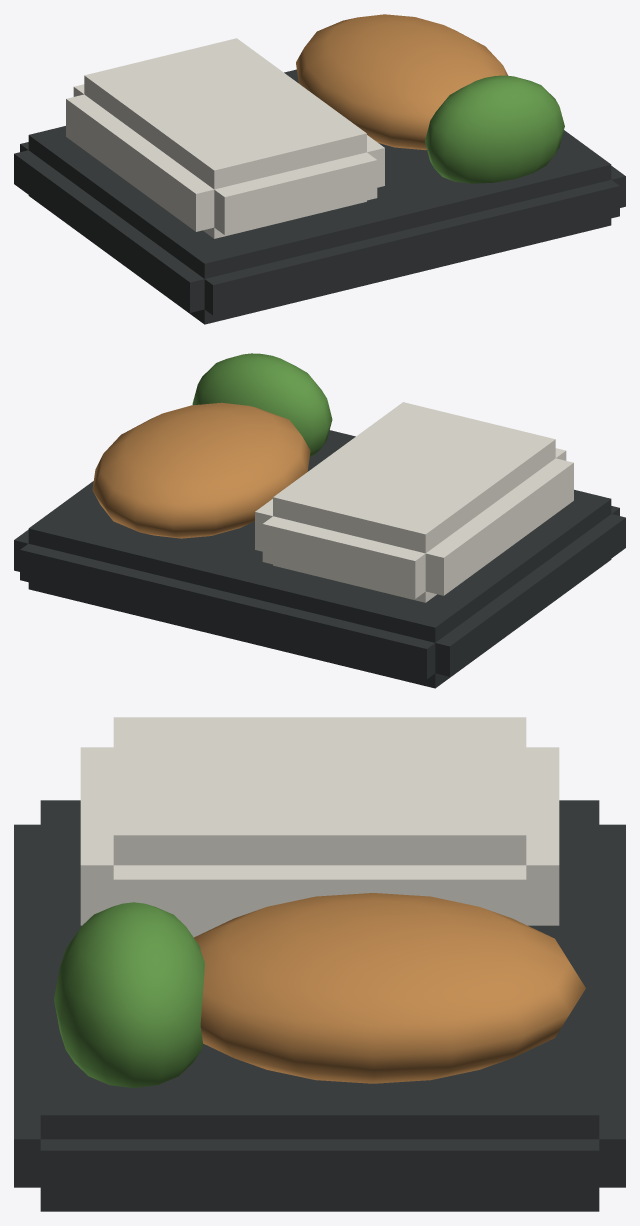
Rendered from sku_deli.glb.
The picture shows the model from 3 angles, top to bottom: view 1: azimuth 30°, elevation 25°; view 2: azimuth 150°, elevation 25°; view 3: azimuth 270°, elevation 25°; orthographic projection. The views are drawn at different scales.
Visible parts, largest first — view 1: sku_deli_Anodised_graphite, sku_deli_Paper_page_edges, sku_deli_Laminated_pastry, sku_deli_FY21_fresh_leaf; view 2: sku_deli_Anodised_graphite, sku_deli_Paper_page_edges, sku_deli_Laminated_pastry, sku_deli_FY21_fresh_leaf; view 3: sku_deli_Anodised_graphite, sku_deli_Paper_page_edges, sku_deli_Laminated_pastry, sku_deli_FY21_fresh_leaf.
Boxes of the visible parts, x1=… form: sku_deli_Anodised_graphite: x1=14, y1=69, x2=625, y2=324; sku_deli_Paper_page_edges: x1=66, y1=38, x2=384, y2=238; sku_deli_Laminated_pastry: x1=296, y1=14, x2=507, y2=150; sku_deli_FY21_fresh_leaf: x1=425, y1=75, x2=564, y2=183; sku_deli_Anodised_graphite: x1=14, y1=430, x2=625, y2=688; sku_deli_Paper_page_edges: x1=255, y1=402, x2=573, y2=602; sku_deli_Laminated_pastry: x1=92, y1=402, x2=310, y2=538; sku_deli_FY21_fresh_leaf: x1=192, y1=353, x2=332, y2=456; sku_deli_Anodised_graphite: x1=14, y1=800, x2=625, y2=1211; sku_deli_Paper_page_edges: x1=80, y1=717, x2=559, y2=937; sku_deli_Laminated_pastry: x1=194, y1=893, x2=585, y2=1083; sku_deli_FY21_fresh_leaf: x1=54, y1=902, x2=204, y2=1088.
Bounding box in the file's own units: 0.3 × 0.095 × 0.23.
